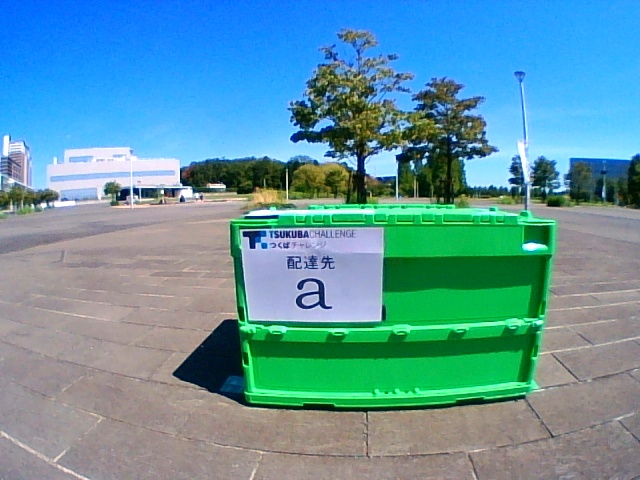green_box: (231, 203, 556, 409)
tag_a: (250, 232, 380, 320)
